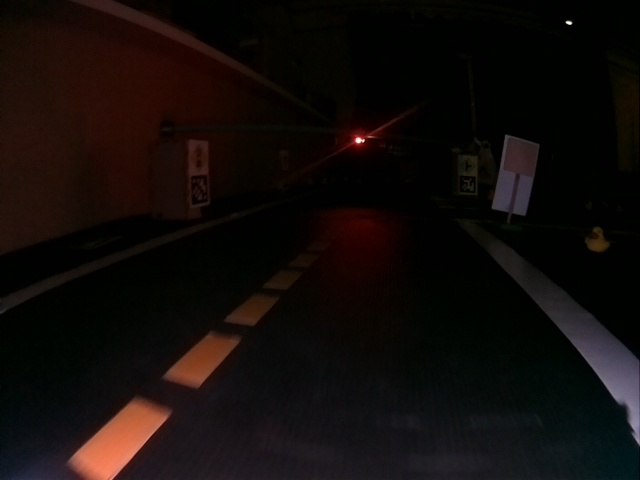Duckie: (585, 230, 608, 251)
Intersection sign: (461, 158, 476, 175)
QR code: (189, 175, 209, 204), (459, 176, 476, 194)
Signal sign: (191, 142, 207, 172)
Traffic light: (355, 135, 363, 146)
